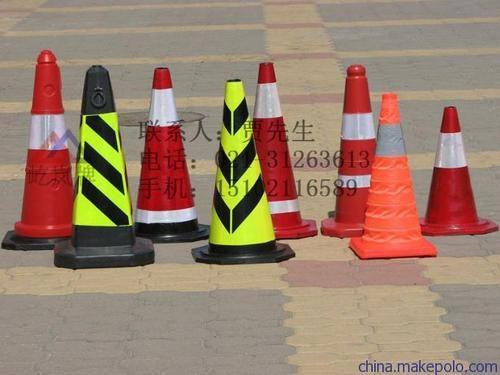cone_barrel: (60, 73, 147, 269), (199, 80, 282, 262), (9, 55, 77, 246), (132, 70, 202, 242), (360, 97, 429, 253), (248, 64, 309, 233), (420, 104, 489, 238), (325, 68, 379, 236)
